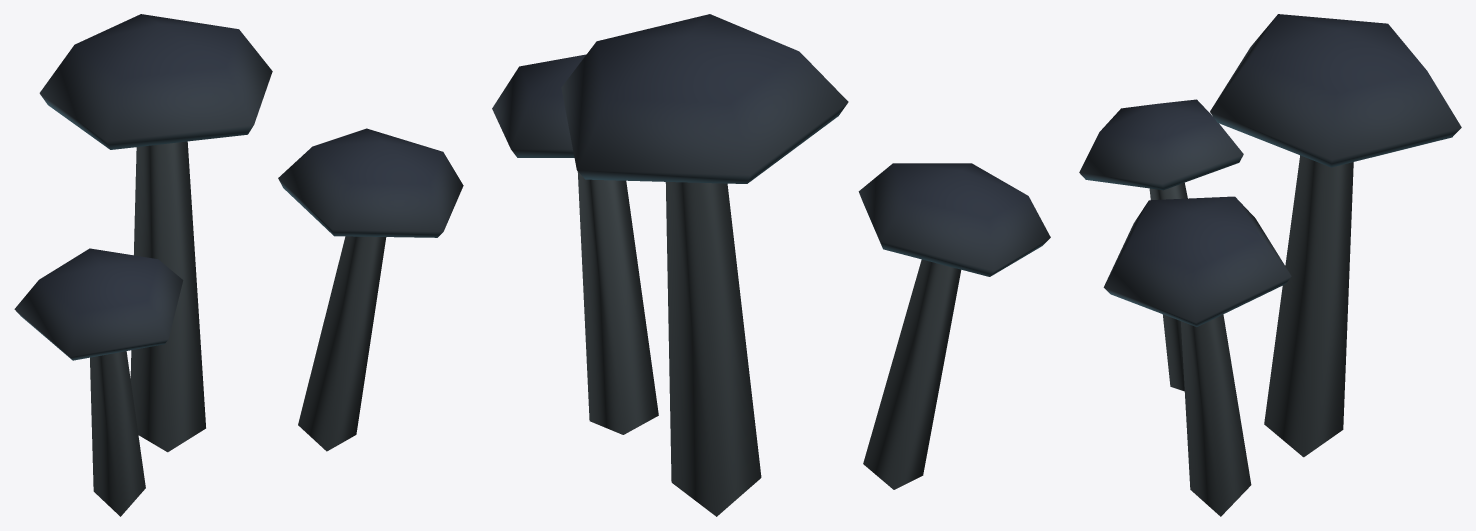
The model's file is mushrooms_lod2.glb.
The picture shows the model from 3 angles, left to right: view 1: azimuth 30°, elevation 25°; view 2: azimuth 150°, elevation 25°; view 3: azimuth 270°, elevation 25°; orthographic projection. The views are drawn at different scales.
Parts seen in each view (by area): view 1: mushrooms_lod2; view 2: mushrooms_lod2; view 3: mushrooms_lod2.
Part boxes in pixels (x1,y1,x2,y2): mushrooms_lod2: (14, 14, 463, 516); mushrooms_lod2: (492, 14, 1050, 516); mushrooms_lod2: (1079, 14, 1461, 516).
Size of the model in its own units: 0.4421 by 0.3888 by 0.3234.
